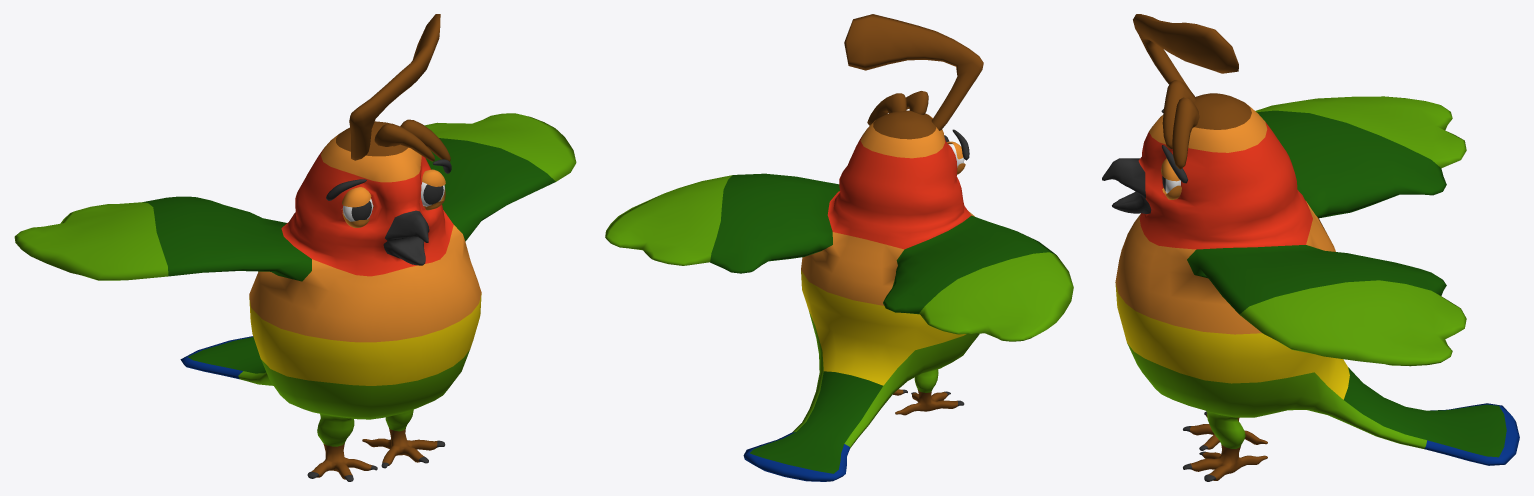
Rendered from miguel.fbx.
3 views of the same model, side by side, from view 1: azimuth 30°, elevation 25°; view 2: azimuth 150°, elevation 25°; view 3: azimuth 270°, elevation 25° (orthographic). The views are drawn at different scales.
Parts seen in each view (by area): view 1: Bird, Crest; view 2: Bird, Crest; view 3: Bird, Crest.
Part boxes in pixels (x1=…): Bird: x1=14, y1=113, x2=576, y2=481; Crest: x1=349, y1=14, x2=450, y2=161; Bird: x1=605, y1=110, x2=1073, y2=481; Crest: x1=844, y1=14, x2=983, y2=130; Bird: x1=1102, y1=93, x2=1519, y2=481; Crest: x1=1133, y1=14, x2=1238, y2=169.
Size of the model in its own units: 265 by 212 by 175.
